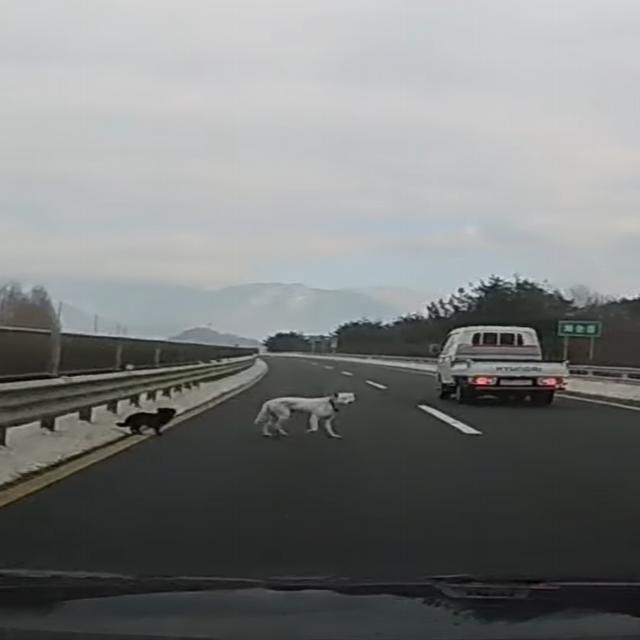dog: (231, 369, 398, 450), (119, 403, 184, 452)
